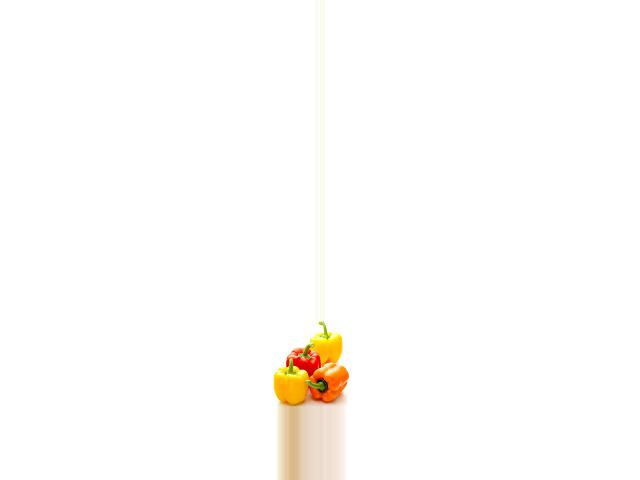bell_pepper: (272, 359, 318, 405)
